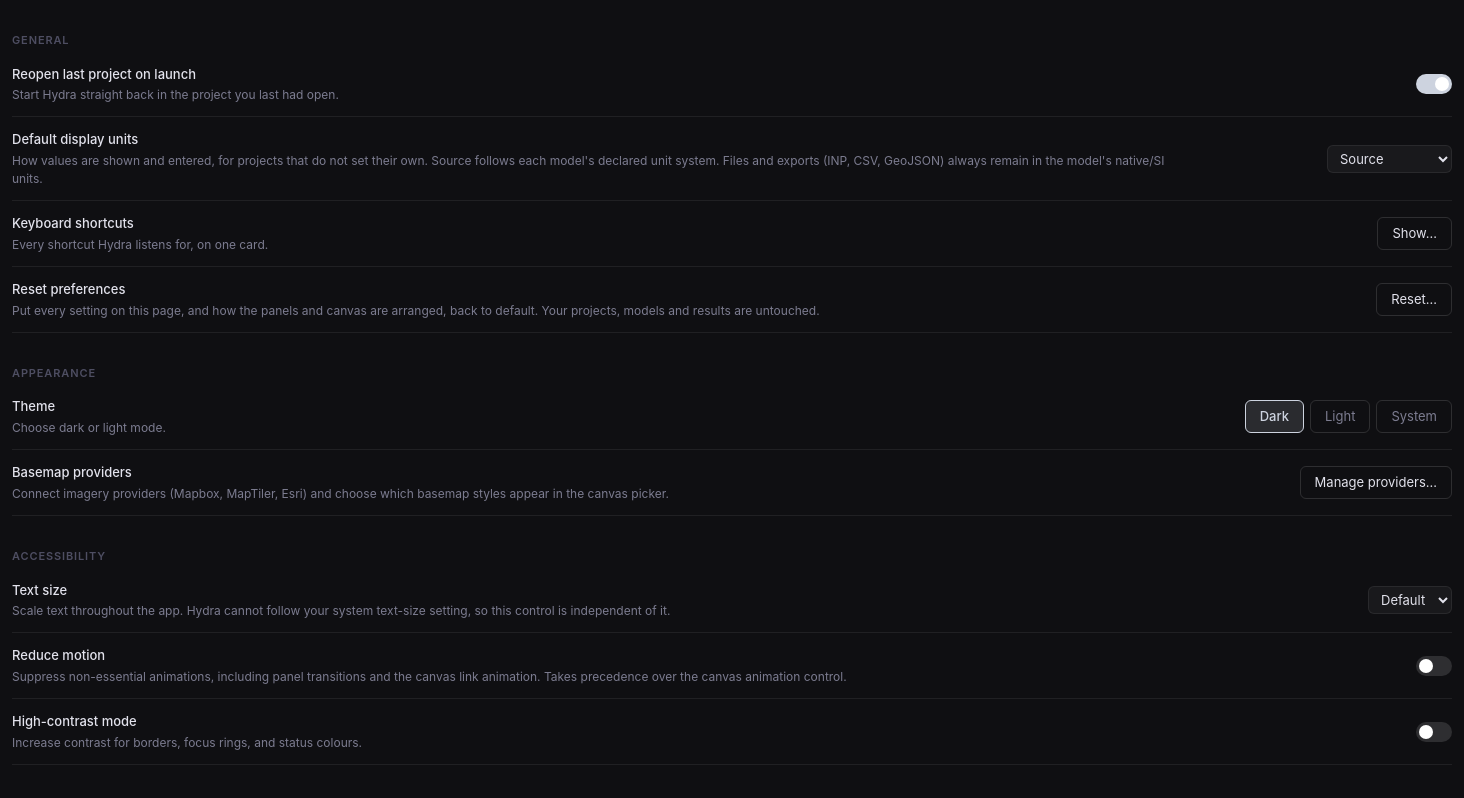
Scenario: the other new rows › asks before resetting preferences
The image size is (1464, 798).
Click the button "Reset…" at point(1414, 299), box [1376,283,1452,316]
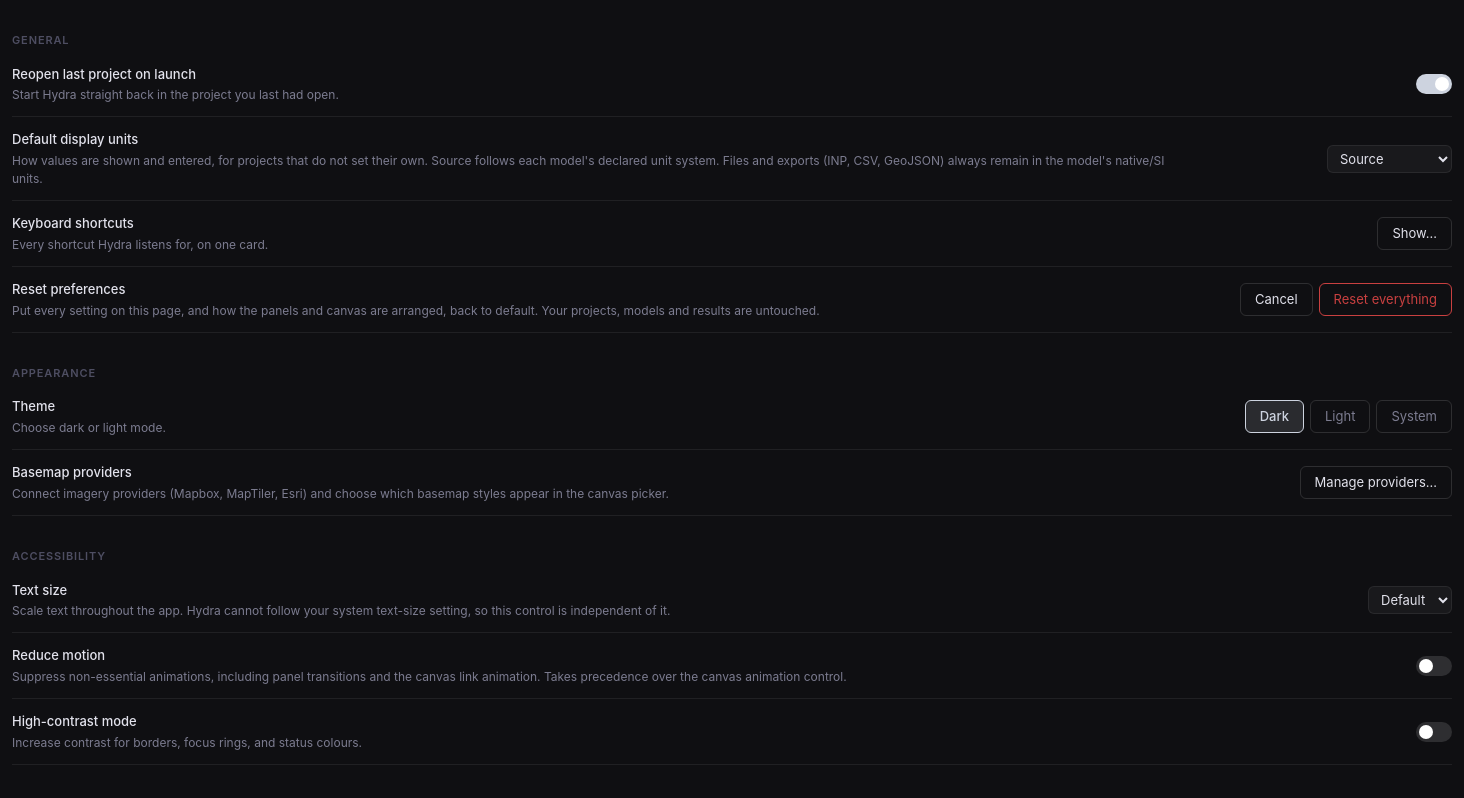
Result: the button "Reset everything" is shown at [1319,283,1452,316]
